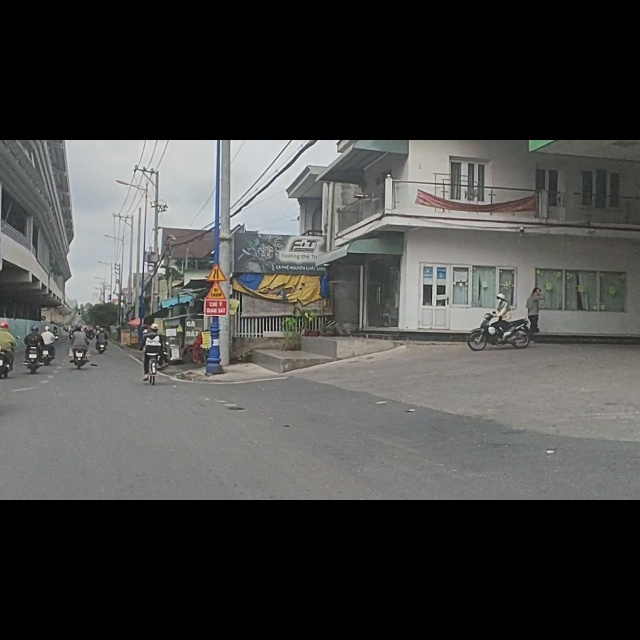Đi chậm: (205, 282, 227, 301)
Đường bị hẹp bên trái: (205, 265, 228, 282)
